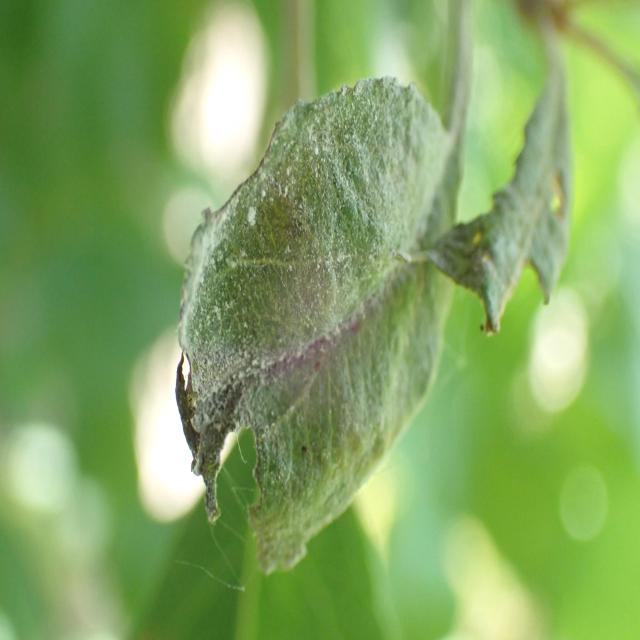Powdery_mildew: (178, 0, 482, 568), (452, 0, 582, 377)
